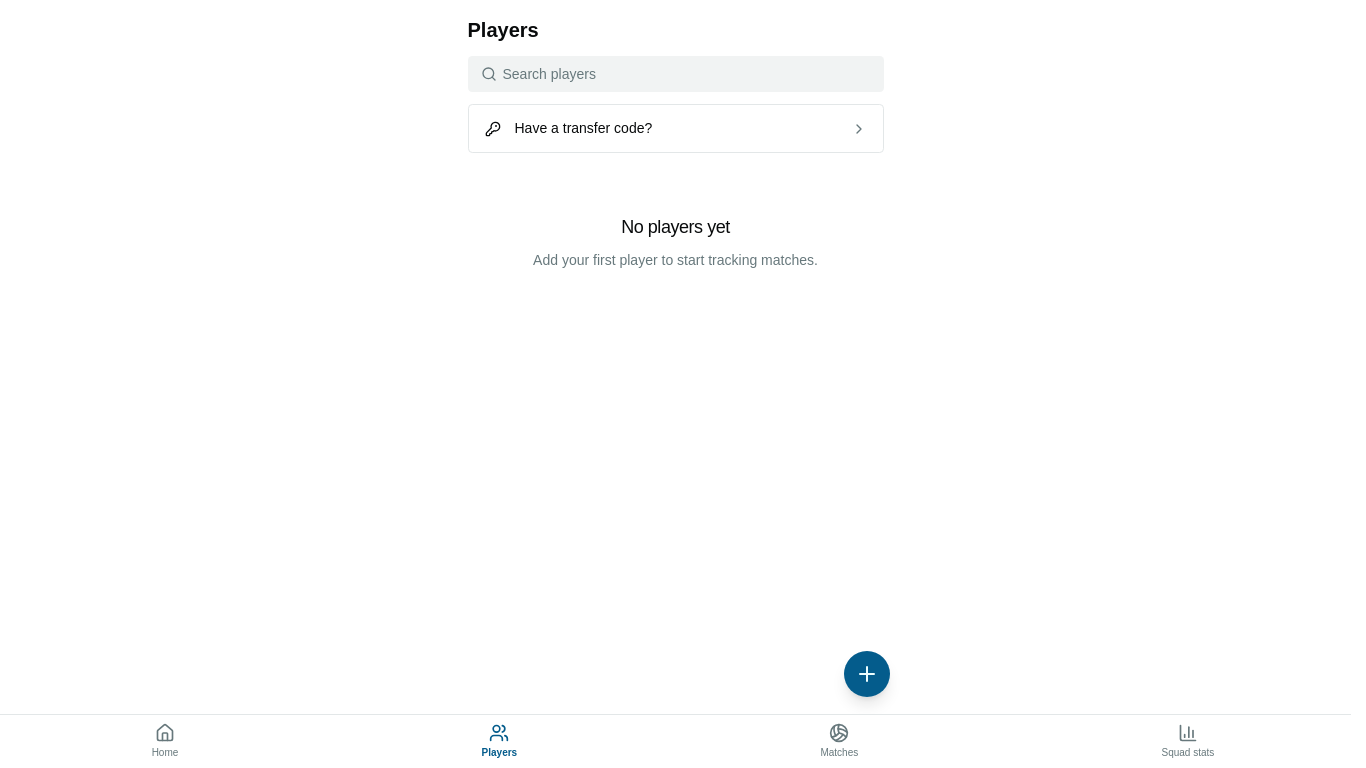
Test: the labelled row opens the redeem-transfer-code sheet
The width and height of the screenshot is (1366, 768).
Expected: the heading "Players" is shown, left=468, top=19, right=539, bottom=41
Click the button "Have a transfer code?".
click(583, 128)  # box left=468, top=104, right=884, bottom=153
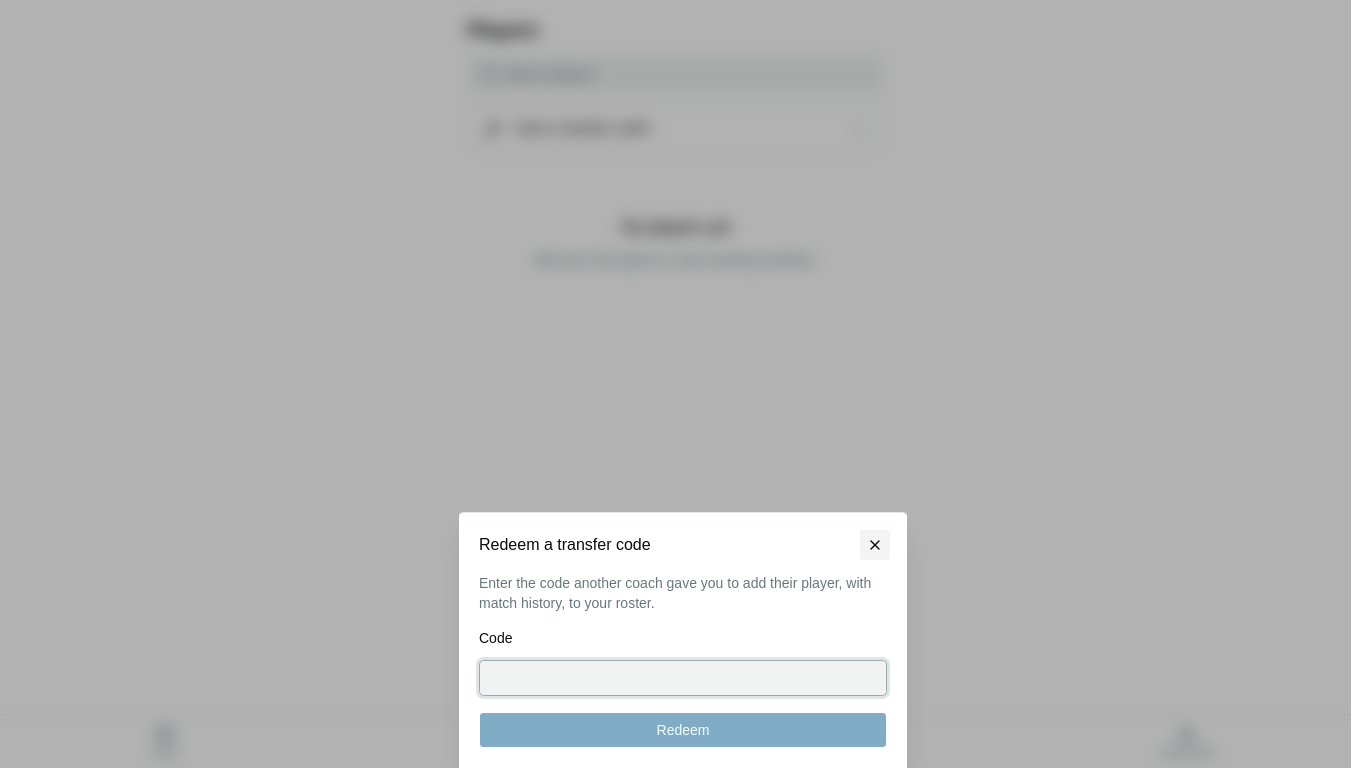
Expected: the heading "Redeem a transfer code" is shown, left=479, top=536, right=651, bottom=553
